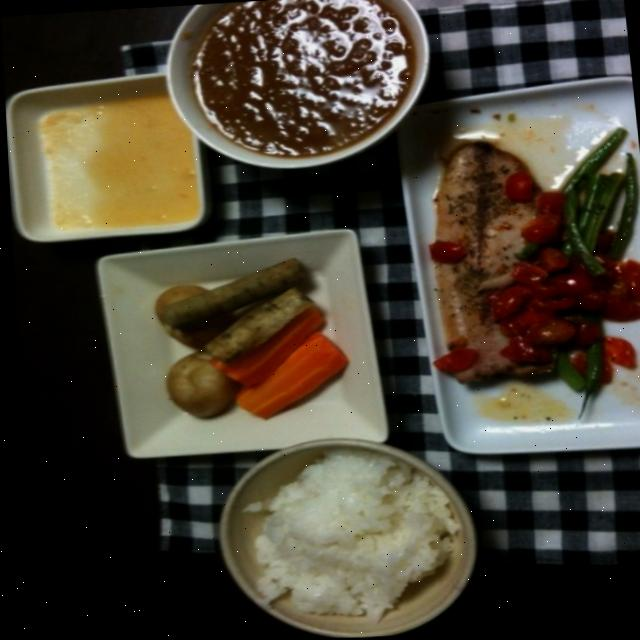米饭主食: (196, 432, 494, 639)
